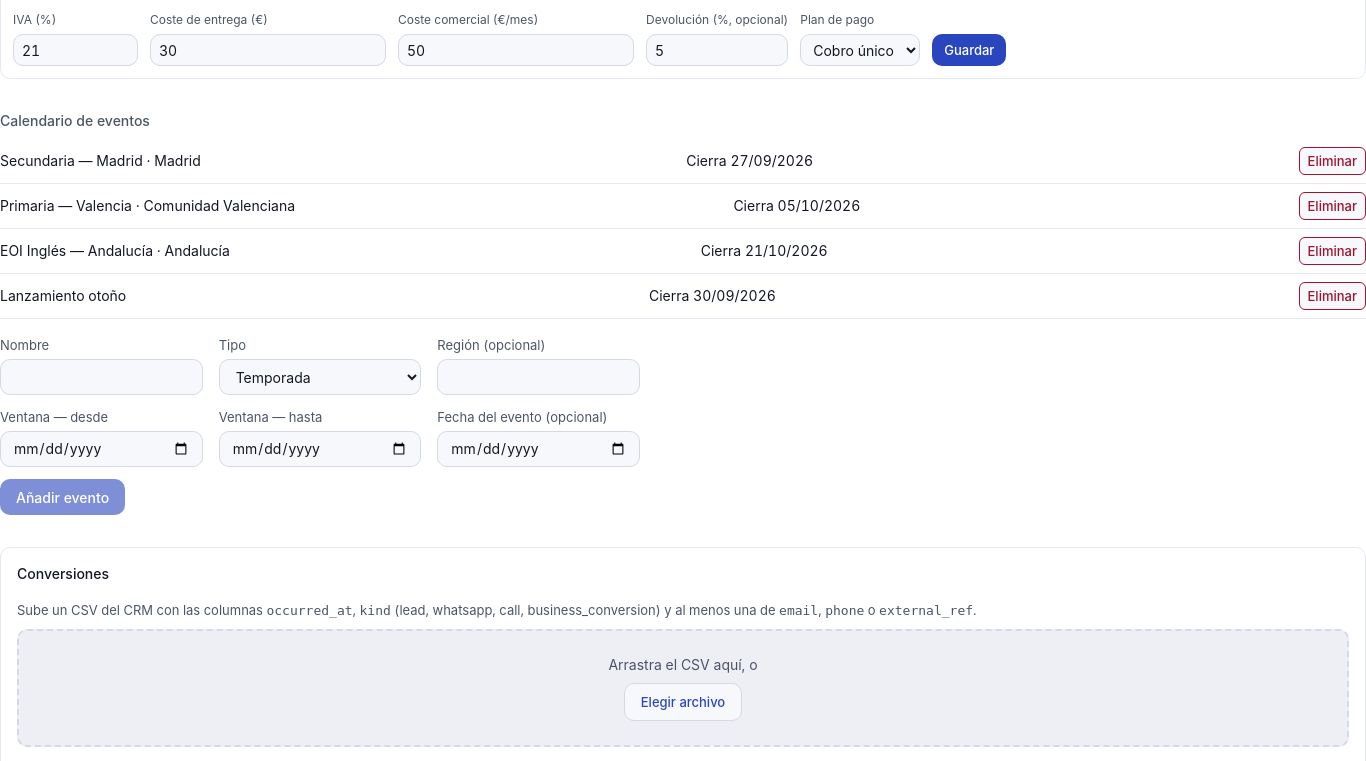
Test: AjustesNegocioPage — Calendario de eventos › un servidor que devuelve 422 muestra el mensaje sin romper el formulario
(page scrolled)
Check: the text "Secundaria — Madrid · Madrid" is shown, box [0, 151, 201, 171]
Type "Evento rechazado por el servidor" into the field labelled "Nombre" at (101, 377), box [0, 359, 203, 395]
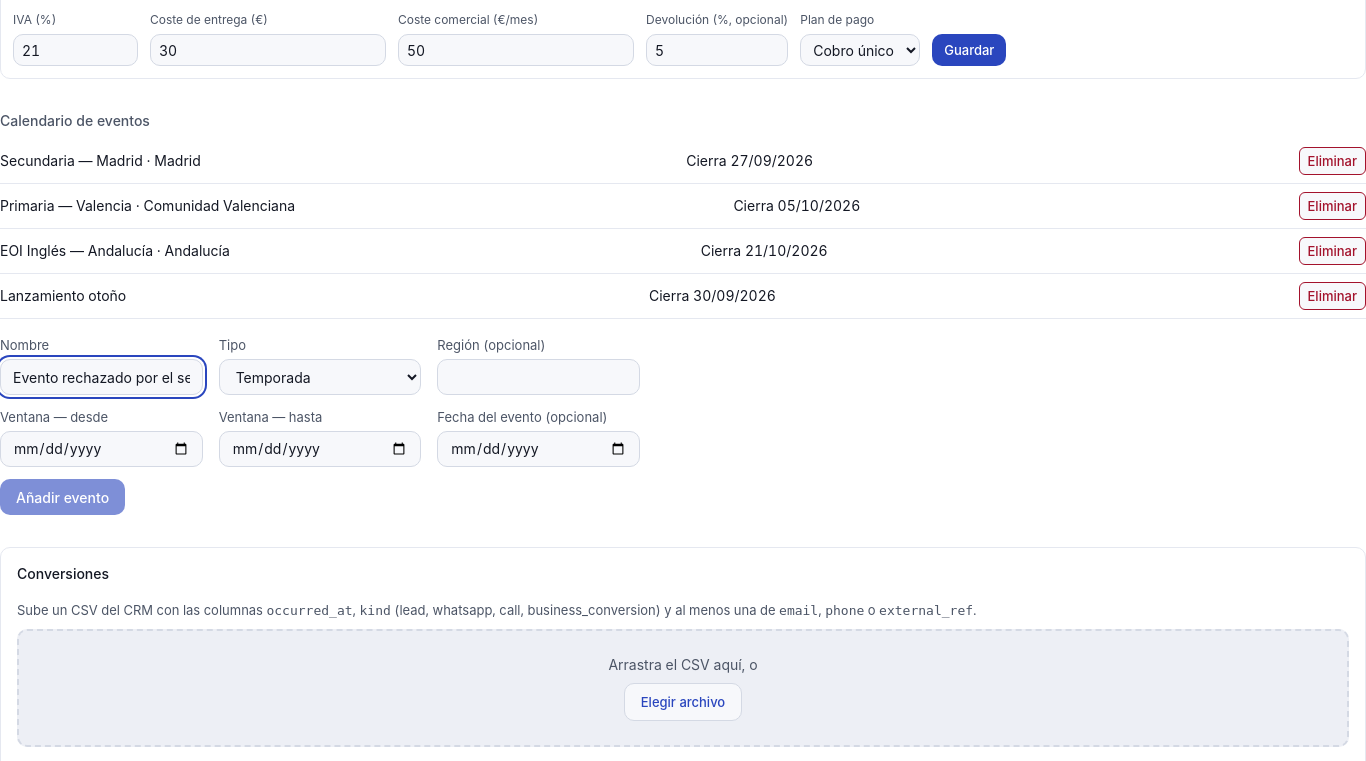
Type "2026-09-01" into the date field labelled "Ventana — desde" at (101, 449), box [0, 431, 203, 467]
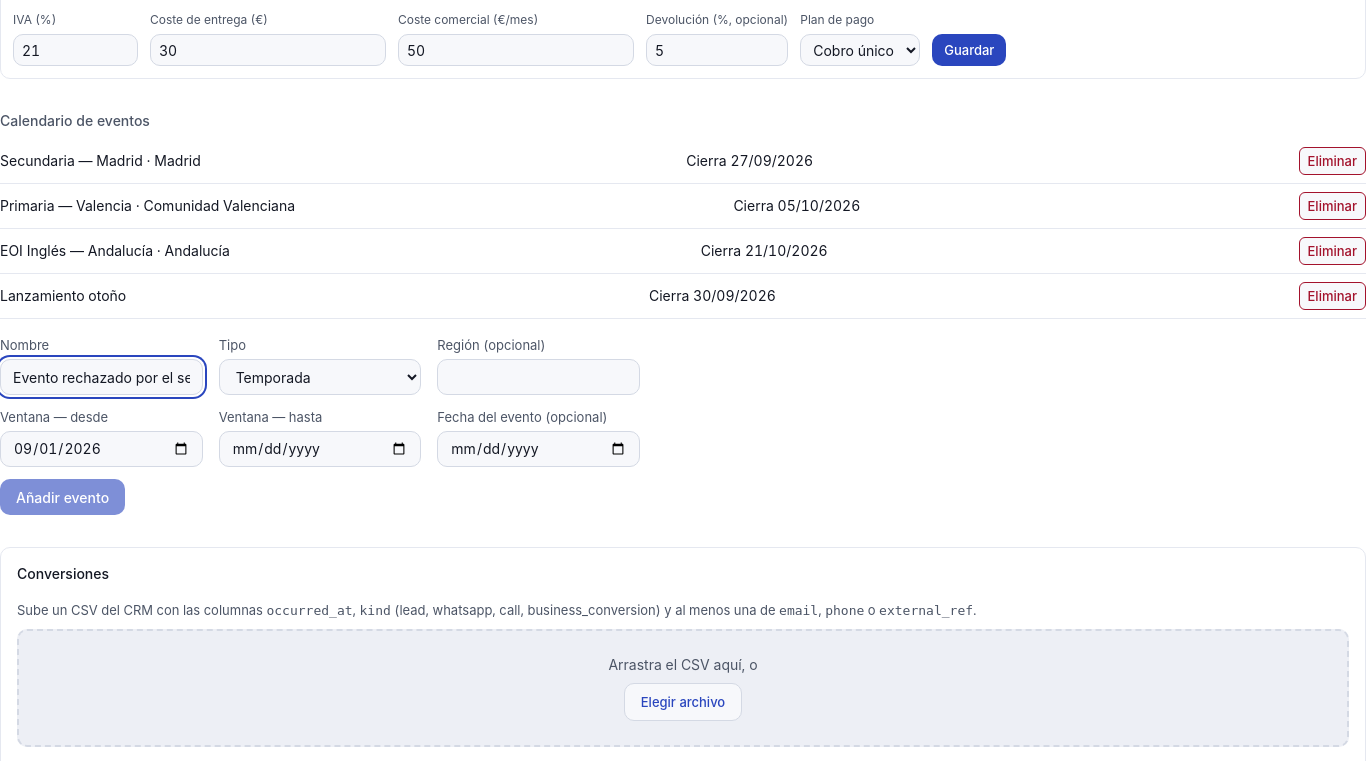
Type "2026-09-30" into the date field labelled "Ventana — hasta" at (320, 449), box [219, 431, 421, 467]
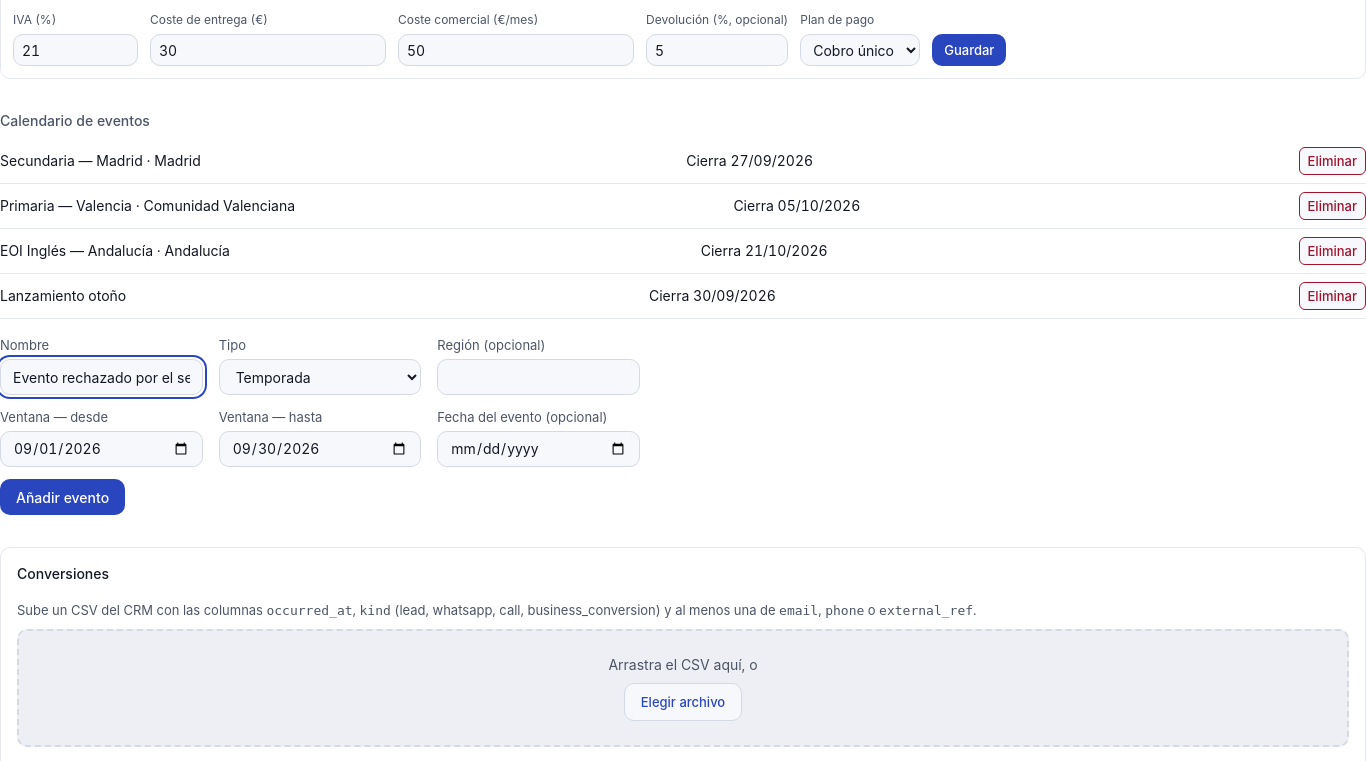
Click the button "Añadir evento" at (63, 497), box [0, 479, 125, 515]
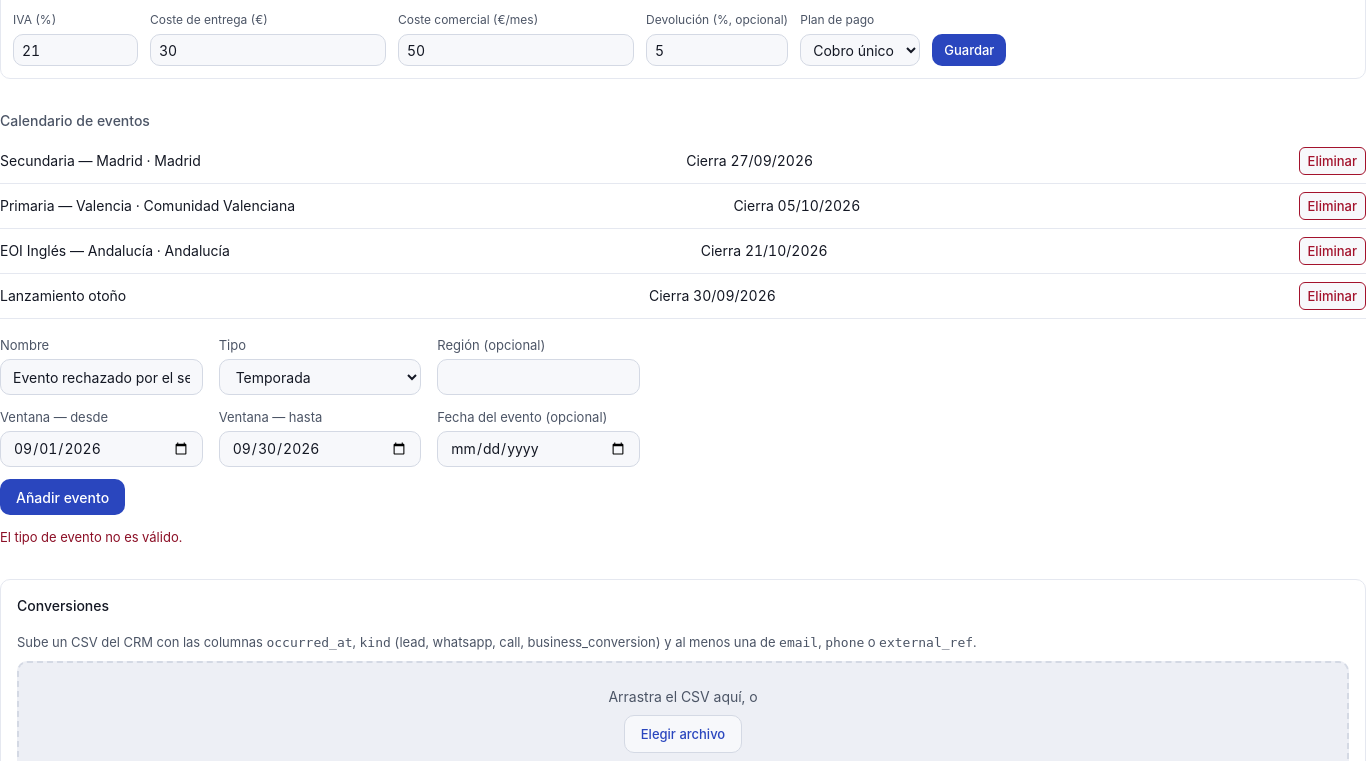
Check: the text "El tipo de evento no es válido." is shown, box [0, 529, 182, 545]
